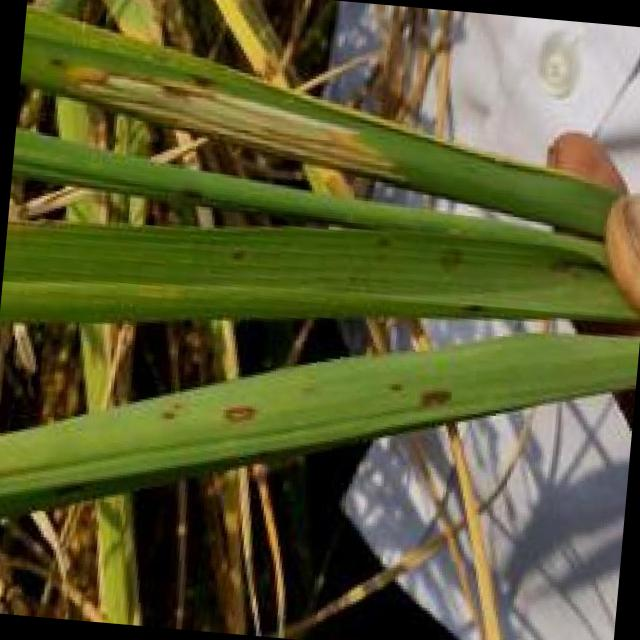Rice_Brownspot: (212, 394, 278, 428), (408, 377, 467, 410), (148, 391, 187, 420), (172, 178, 215, 204), (436, 238, 466, 270), (35, 42, 69, 68), (222, 237, 250, 259)
